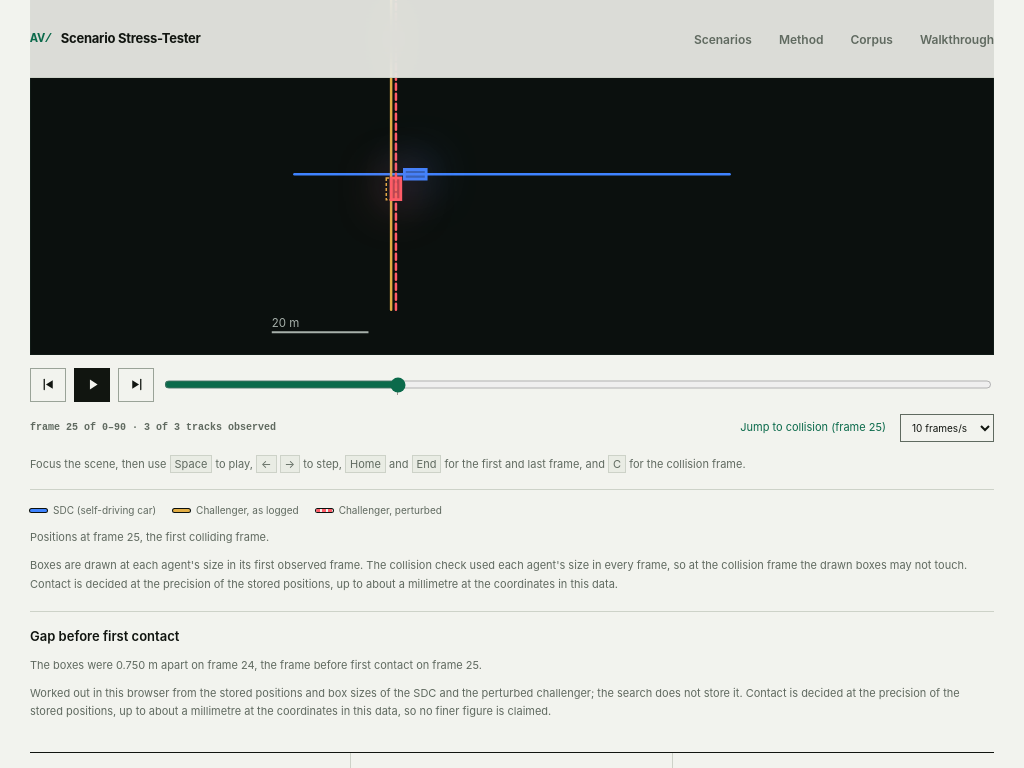
Test: box-size note: playback does not remove or change it › is still there once the viewer has moved the playhead and the opening-frame note is gone
(page scrolled)
Expected: the text "frame 25 of 0–90 · 3 of 3 tracks observed" is shown, [30, 420, 276, 435]
Expected: the text "Positions at frame 25, the first colliding frame." is shown, [30, 530, 269, 544]
Click the button named "Step forward one frame" at (136, 385), box [118, 368, 154, 402]
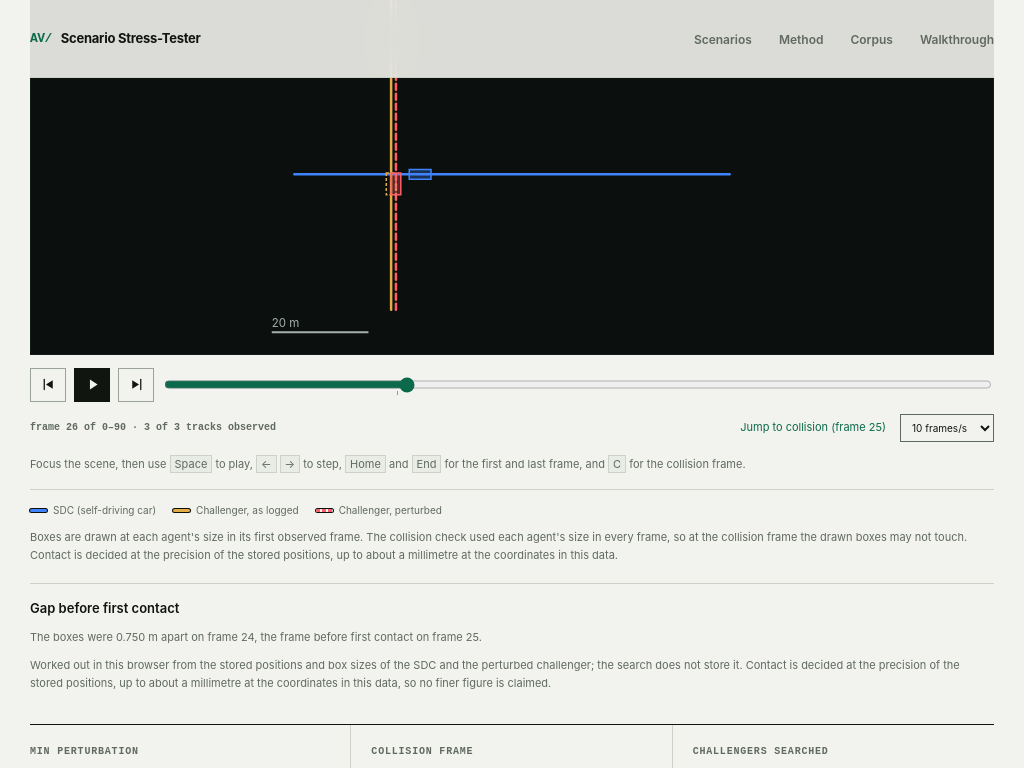
Result: the text "Positions at frame 25, the first colliding frame" is gone
